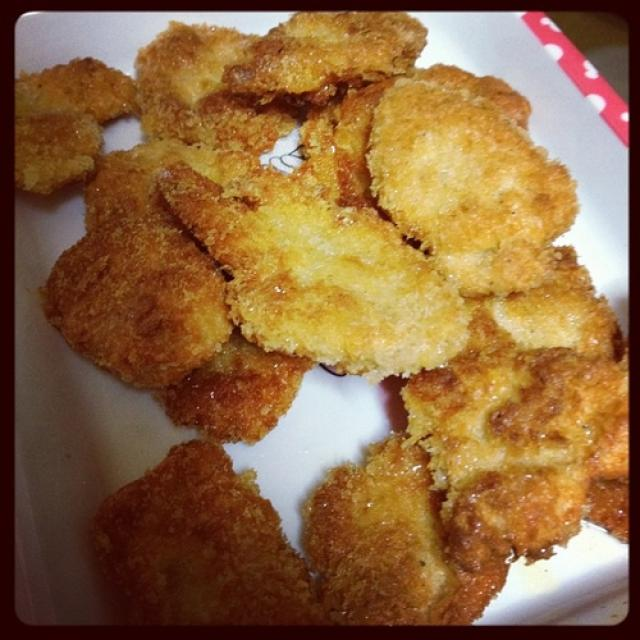鸡肉料理 含炸鸡: (27, 23, 617, 618)
